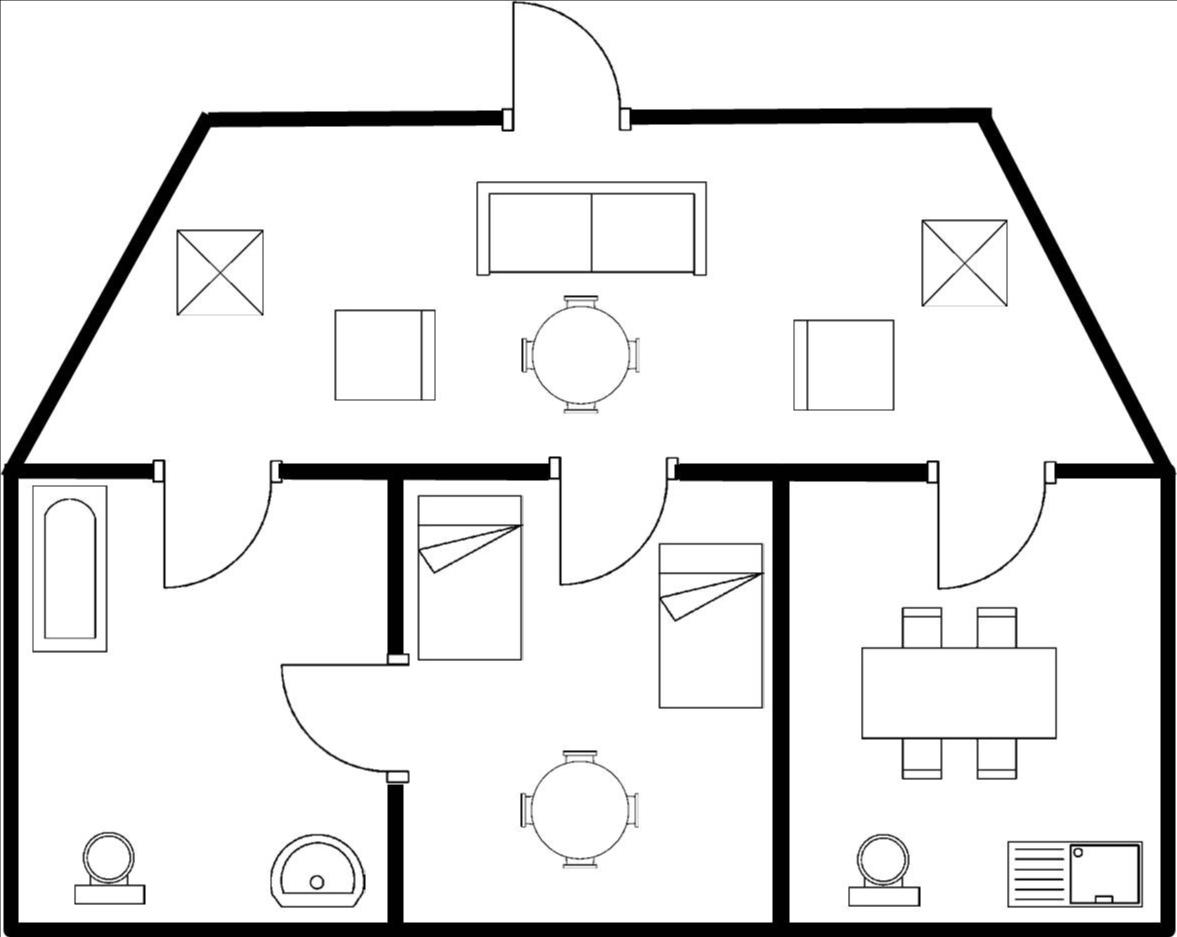bed: (651, 533, 772, 716), (414, 486, 534, 667)
round_table: (509, 738, 651, 873), (513, 290, 647, 421)
sink: (996, 830, 1151, 915)
sofa: (466, 171, 717, 285)
toilet: (266, 824, 377, 914), (837, 822, 927, 914), (66, 821, 158, 911)
tub: (27, 478, 117, 661)
